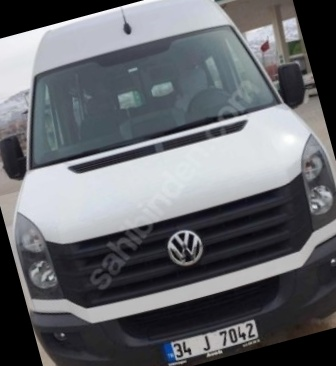plaka: (170, 319, 261, 361)
